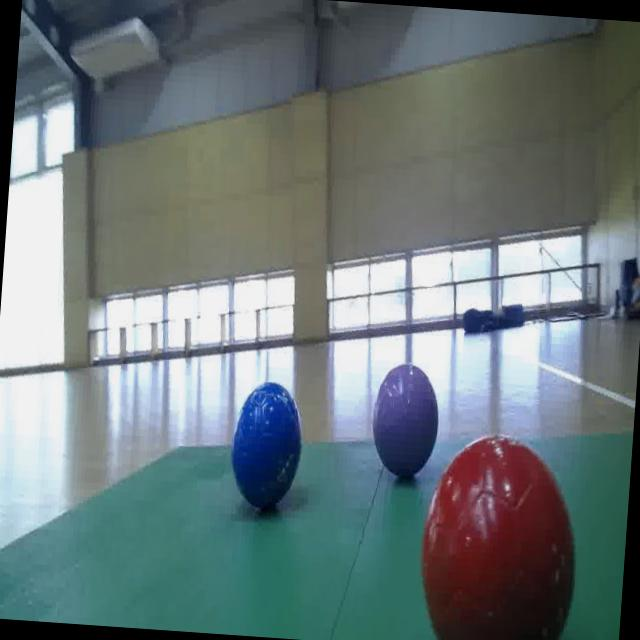blue_ball: (225, 369, 311, 516)
purple_ball: (370, 354, 444, 492)
red_ball: (414, 426, 584, 640)
